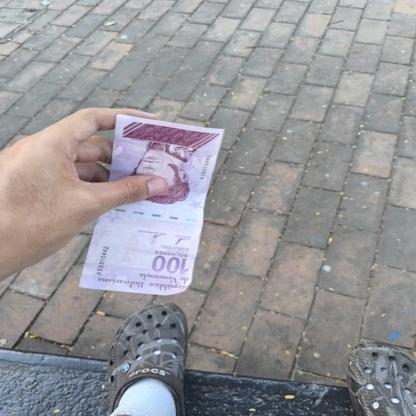one_hundred-front-vef: (78, 113, 226, 296)
